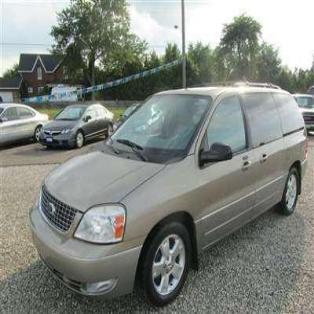Auto: (26, 90, 308, 301)
